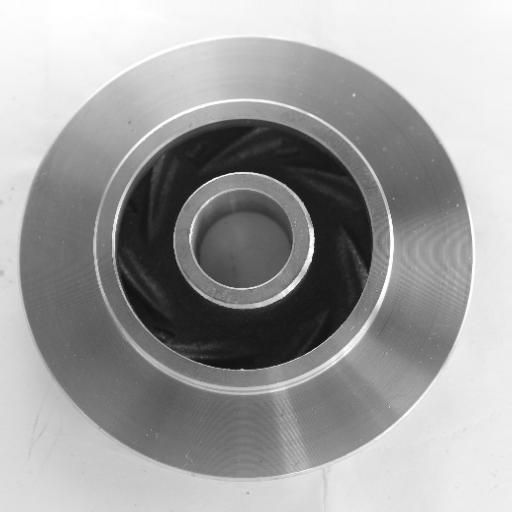polished_casting: (17, 35, 475, 480)
